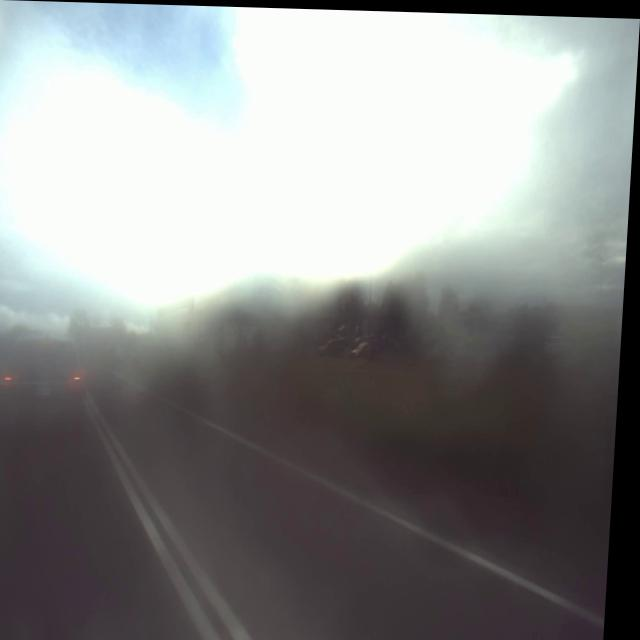car: (0, 316, 96, 447)
